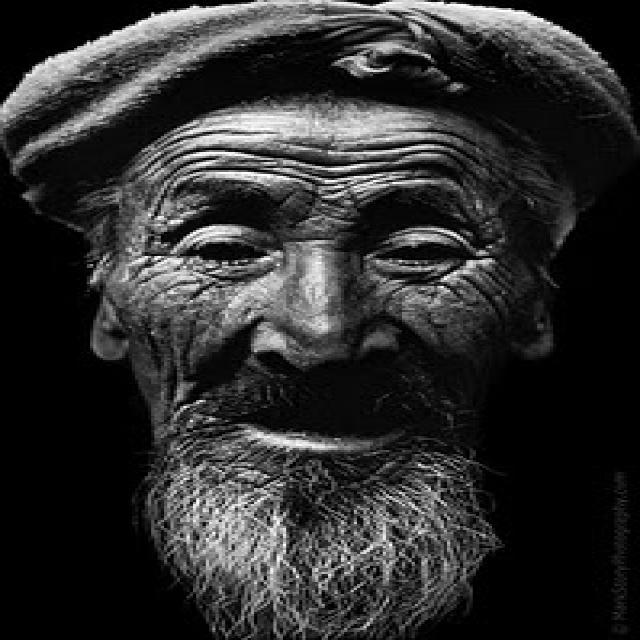earlobe: (92, 332, 130, 362), (524, 328, 558, 359)
eye: (376, 242, 459, 263), (189, 242, 264, 262)
nose: (264, 346, 392, 403)
wholeear: (89, 295, 134, 363)
